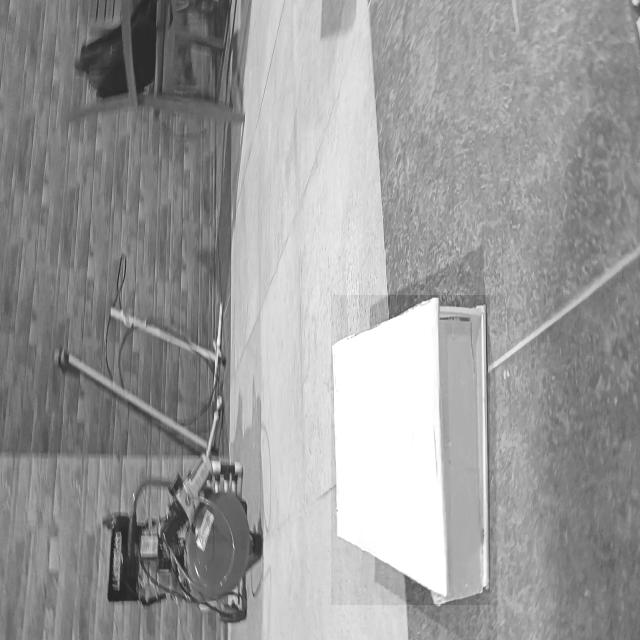Cuboid: (331, 295, 490, 605)
